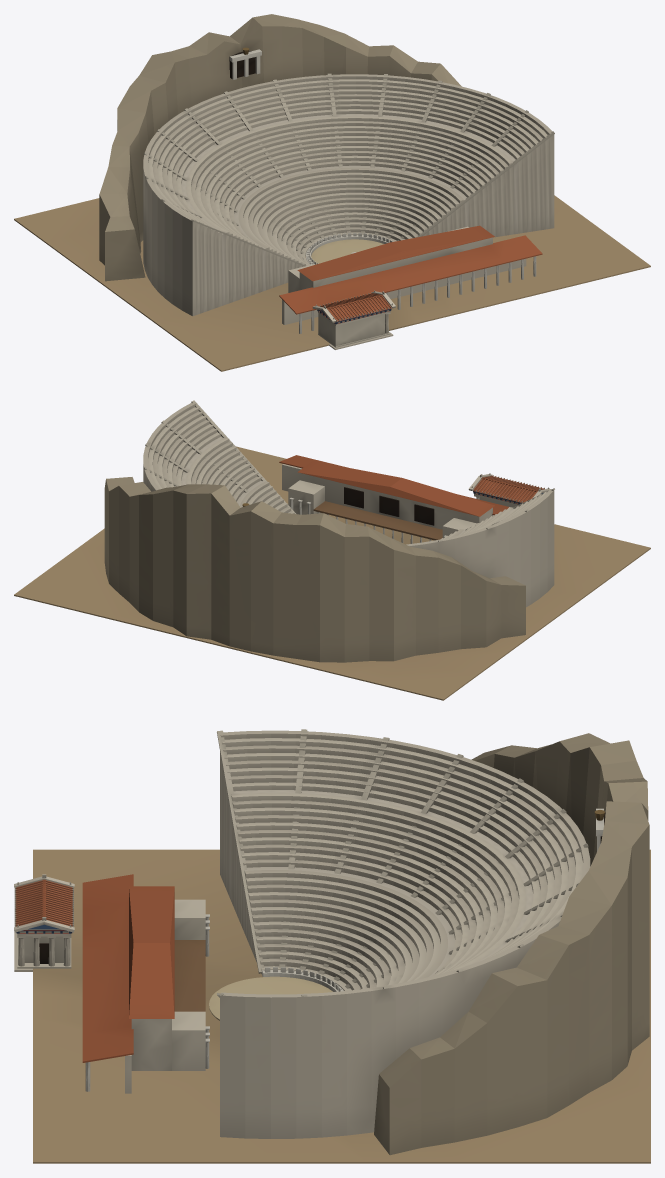
Rendered from theatre-dionysus.glb.
The picture shows the model from 3 angles, top to bottom: view 1: azimuth 30°, elevation 25°; view 2: azimuth 150°, elevation 25°; view 3: azimuth 270°, elevation 25°; orthographic projection. The views are drawn at different scales.
Parts seen in each view (by area): view 1: p1_seats, p0_cavea, p3_sanctuary, p2_stage; view 2: p0_cavea, p1_seats, p2_stage, p3_sanctuary; view 3: p0_cavea, p1_seats, p3_sanctuary, p2_stage.
Boxes of the visible parts, x1,y1,x2,y2 form: p1_seats: (143, 73, 554, 316); p0_cavea: (14, 14, 650, 371); p3_sanctuary: (229, 47, 542, 349); p2_stage: (288, 225, 494, 292); p0_cavea: (14, 446, 650, 700); p1_seats: (143, 400, 554, 607); p2_stage: (288, 461, 494, 543); p3_sanctuary: (240, 455, 551, 516); p0_cavea: (33, 733, 650, 1163); p1_seats: (217, 729, 590, 1138); p3_sanctuary: (14, 808, 605, 1093); p2_stage: (129, 886, 209, 1070).
Size of the model in its own units: 110 by 36.1 by 94.81.
